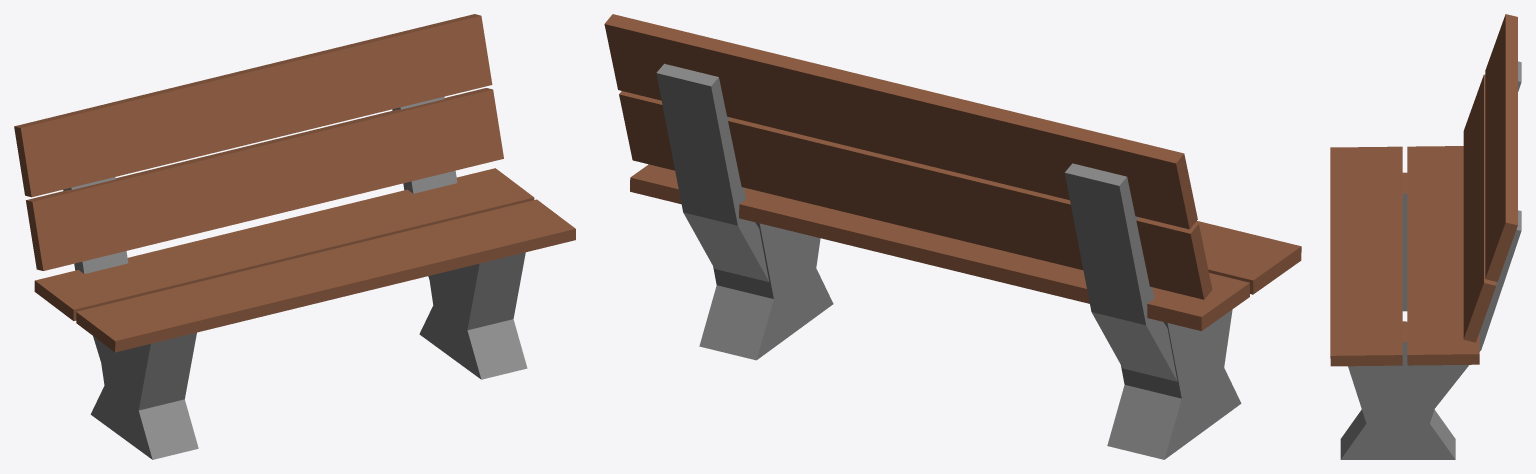
Rendered from bench.glb.
3 renders of one model, left to right at view 1: azimuth 30°, elevation 25°; view 2: azimuth 150°, elevation 25°; view 3: azimuth 270°, elevation 25°, orthographic. The views are drawn at different scales.
Visible parts, largest first — view 1: bench; view 2: bench; view 3: bench.
Boxes of the visible parts, x1=… form: bench: x1=14, y1=14, x2=575, y2=459; bench: x1=604, y1=14, x2=1301, y2=459; bench: x1=1330, y1=14, x2=1521, y2=459.
Bounding box in the file's own units: 1.6 × 0.92 × 0.62.
